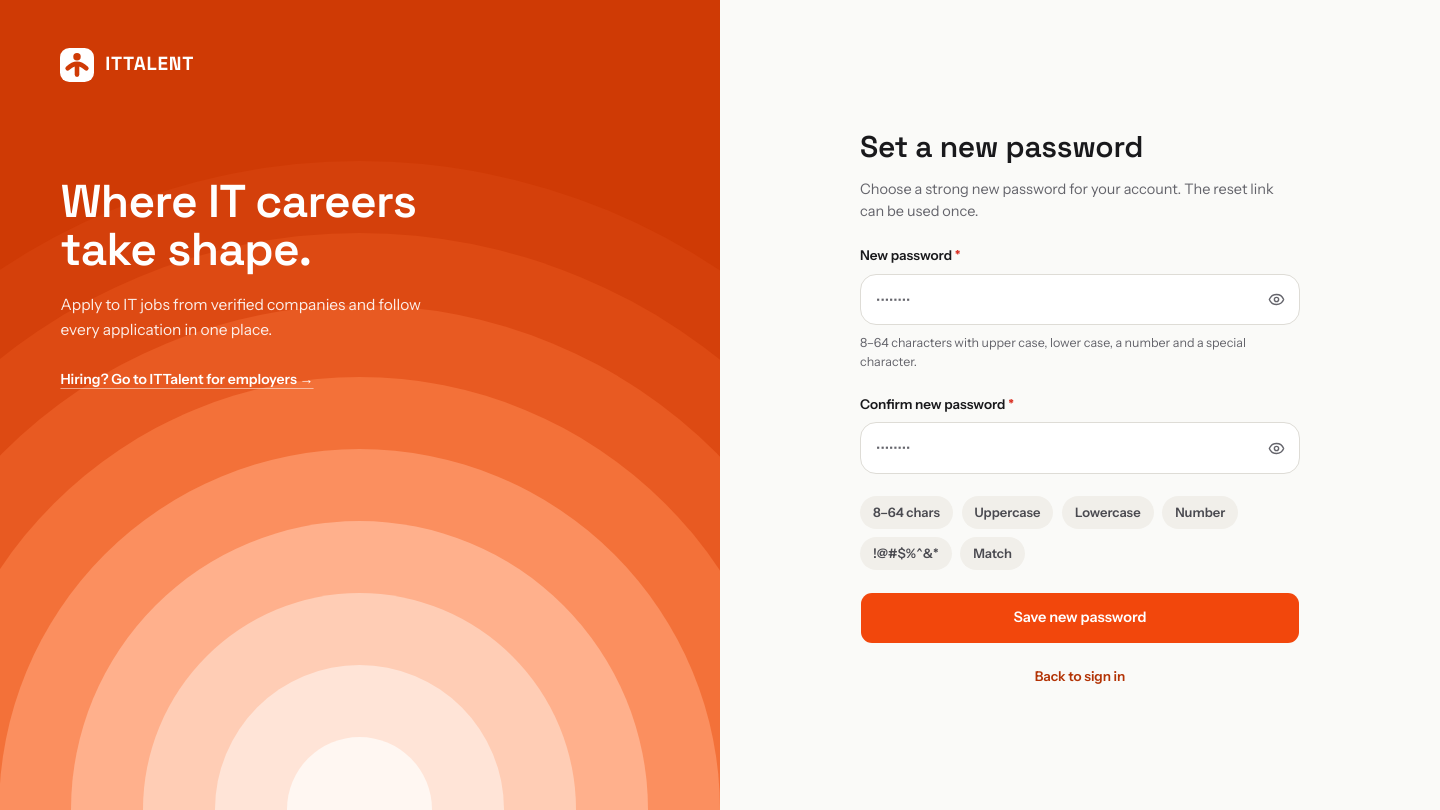
ResetPasswordPage › shows expired state when the token becomes unavailable during submit
In the password field labelled "New password *": (1080, 300) 860,274 -> 1300,325, type "Password123!"
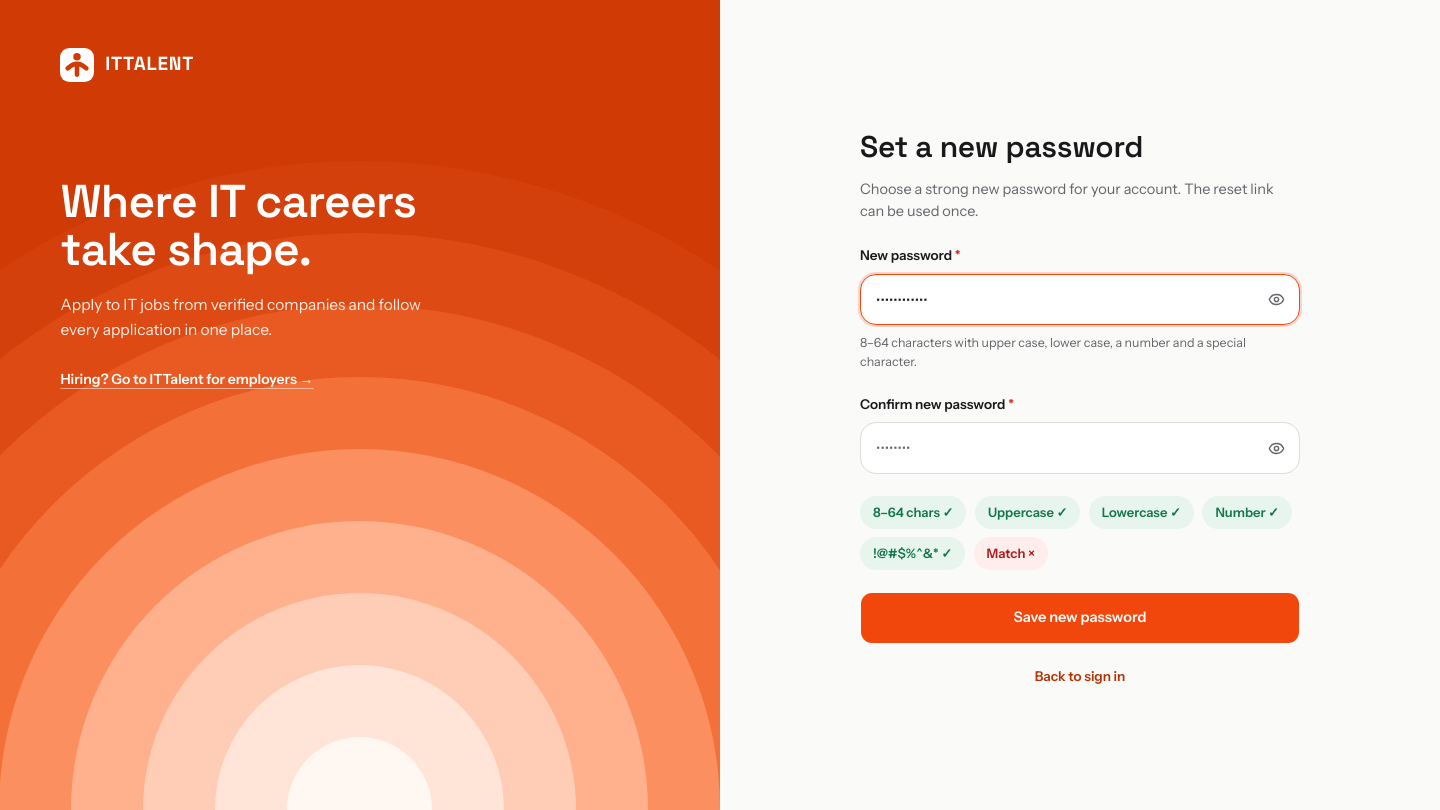
In the password field labelled "Confirm new password *": (1080, 448) 860,422 -> 1300,474, type "Password123!"
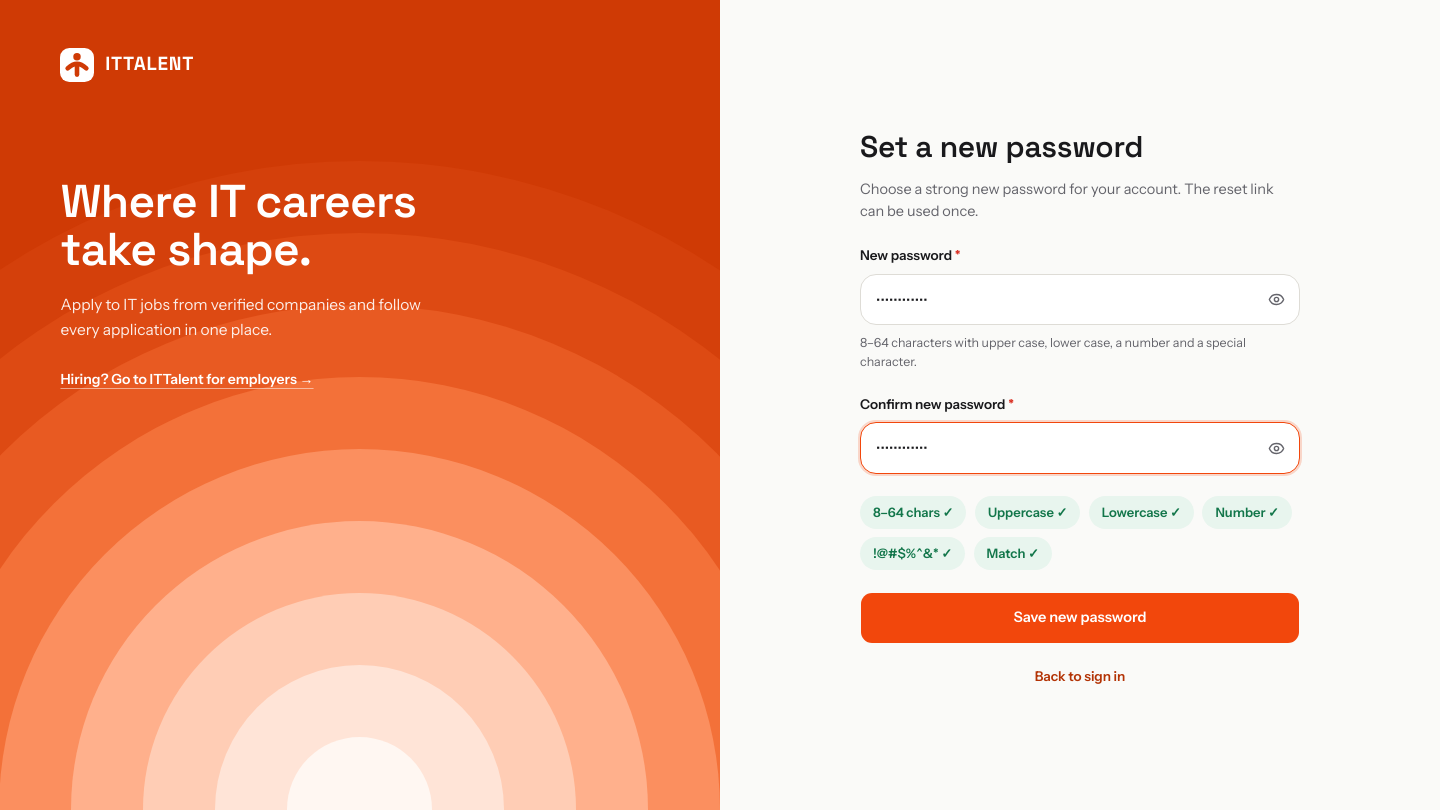
Click the button "Save new password": (1080, 618) 860,592 -> 1300,644
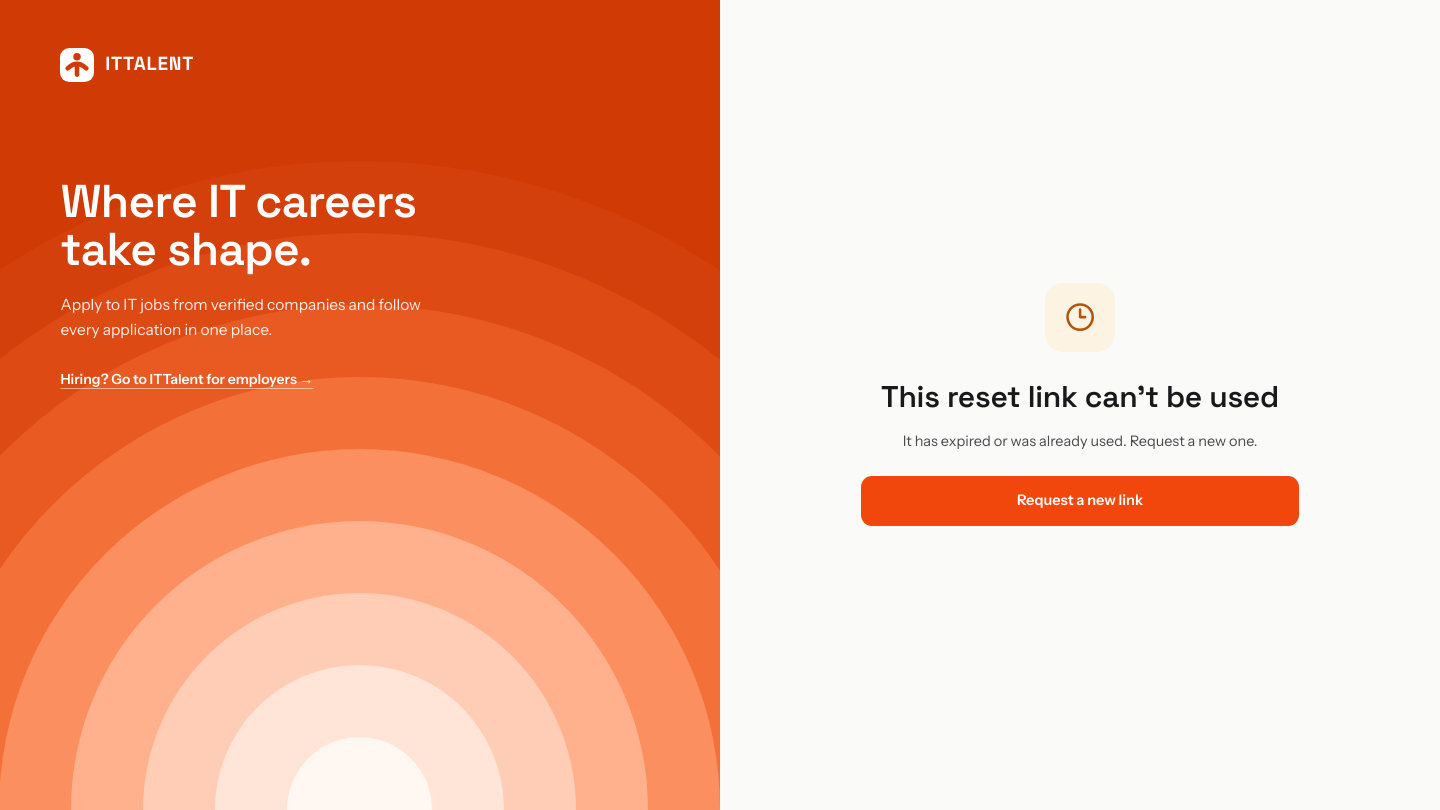
Check: the heading "This reset link can't be used" is shown, box 860,374 -> 1300,419
